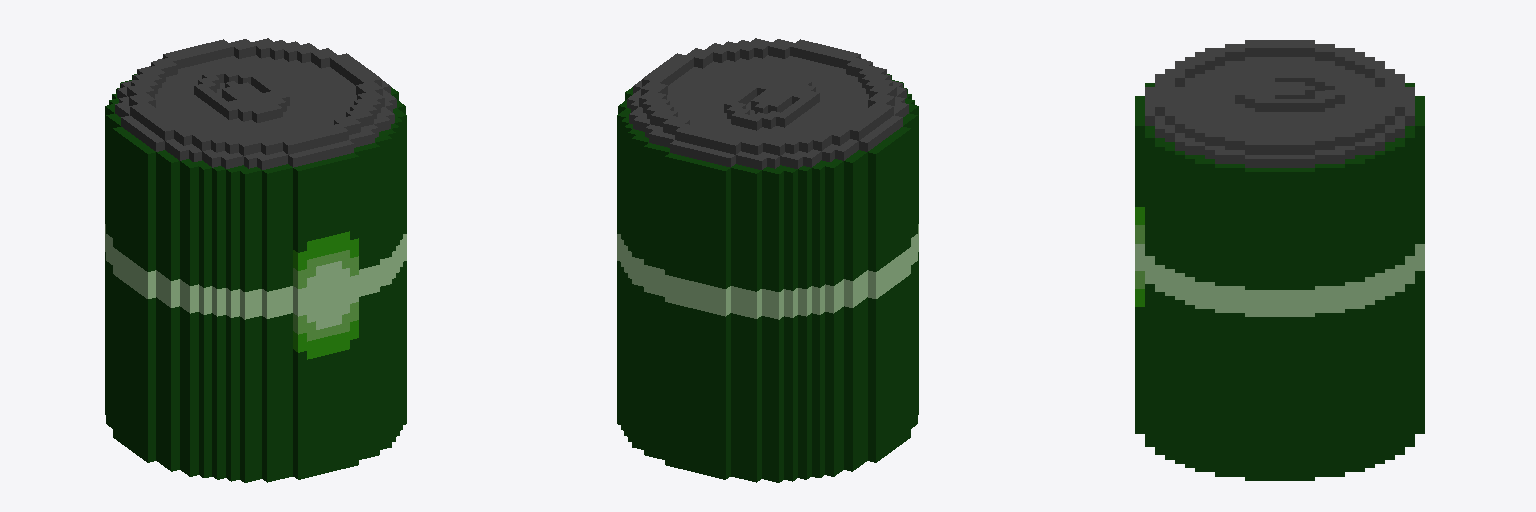
3 views of the same model, side by side, from view 1: azimuth 30°, elevation 25°; view 2: azimuth 150°, elevation 25°; view 3: azimuth 270°, elevation 25° (orthographic).
Visible parts, largest first — view 1: object 1; view 2: object 1; view 3: object 1.
Part boxes in pixels (bbox=[...]): object 1: bbox=[105, 38, 406, 482]; object 1: bbox=[617, 38, 918, 482]; object 1: bbox=[1135, 40, 1424, 480].
Bounding box in the file's own units: 2.9 × 3.6 × 2.9.
Materials: 1 (1 with a texture image).